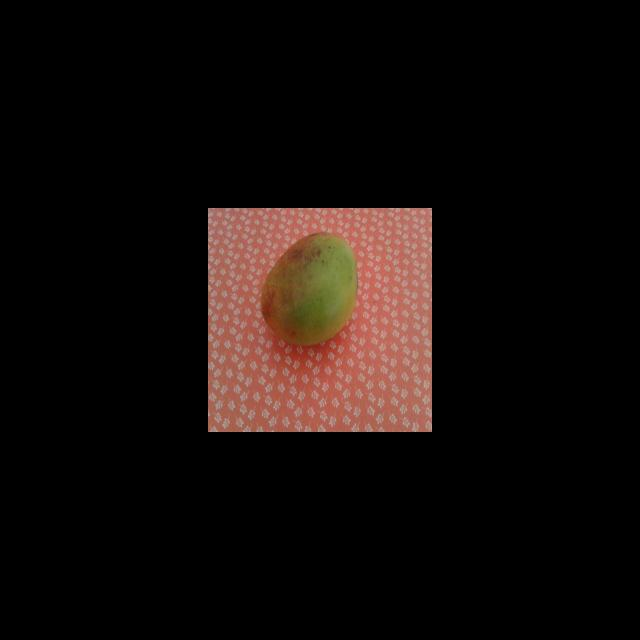Mango: (260, 231, 358, 346)
